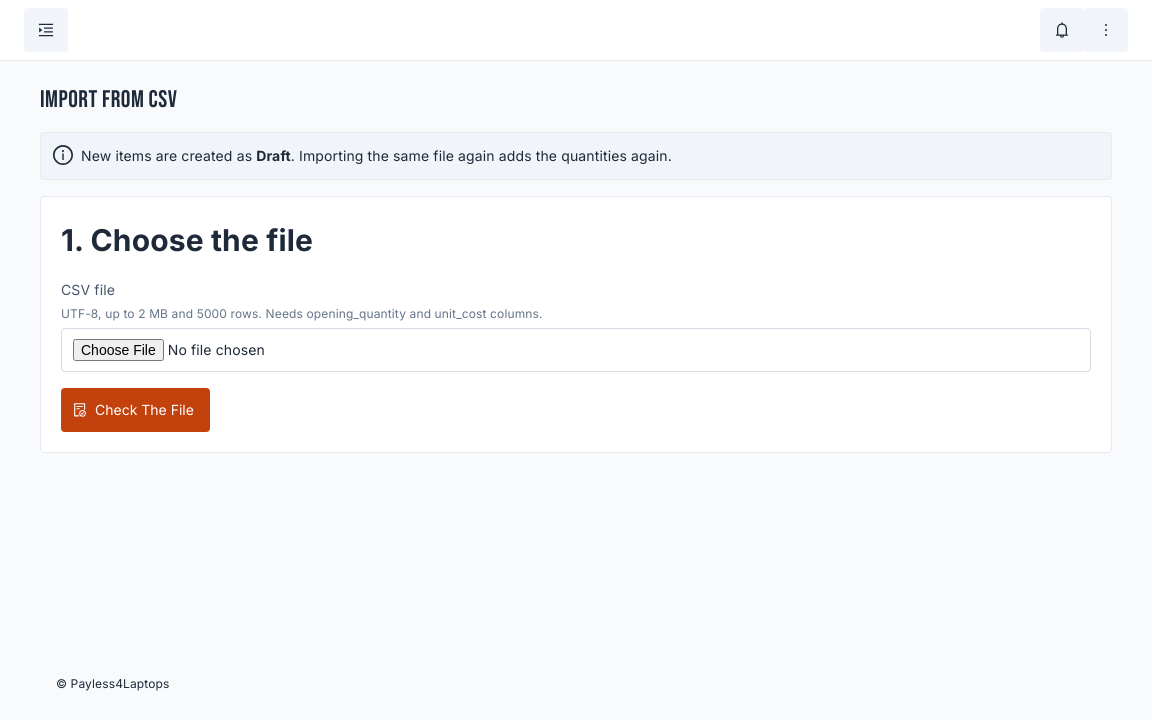
it: CSV import screen › dry run with errors: row numbers listed, nothing to confirm
The width and height of the screenshot is (1152, 720).
Earlier steps of the test are not shown.
Step 1. Click the button "Check the file" → (135, 410), box left=61, top=388, right=210, bottom=432
(page scrolled)
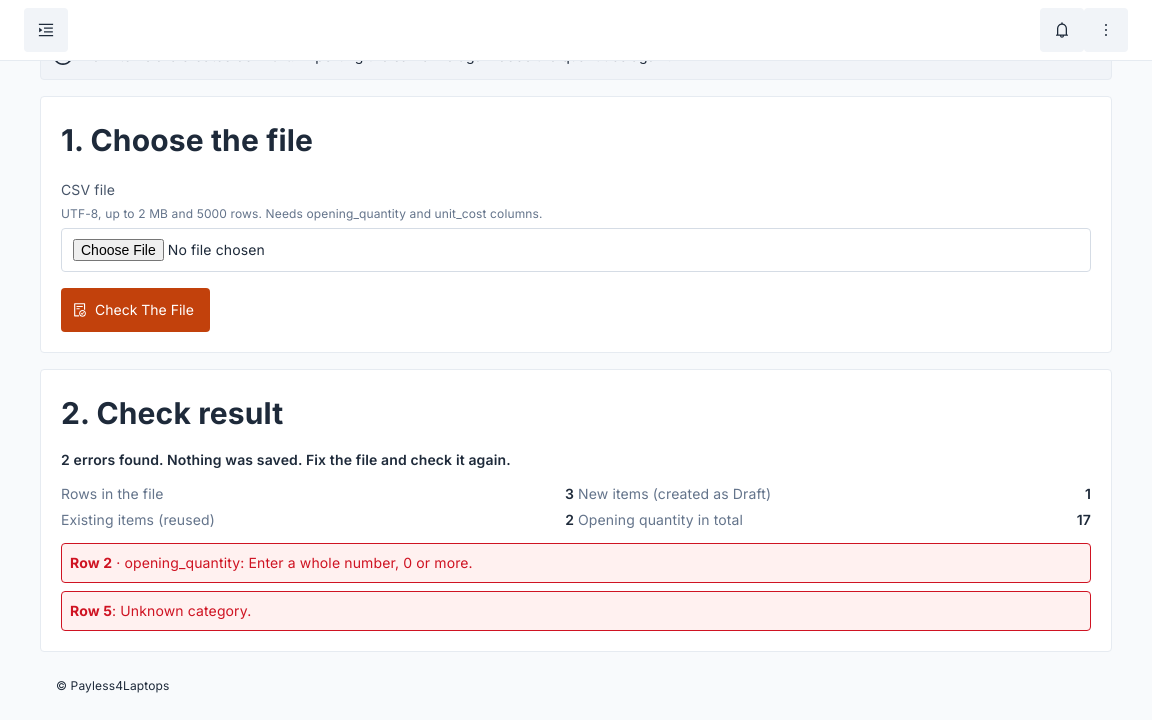
Expected: the text "2 errors found. Nothing was saved. Fix the file and check it again." is shown, left=61, top=451, right=511, bottom=468
Expected: the list named "Errors by row" shows "Row 2 · opening_quantity: Enter a whole number, 0 or more.", left=61, top=543, right=1091, bottom=631
Expected: the list named "Errors by row" shows "Row 5: Unknown category.", left=61, top=543, right=1091, bottom=631
